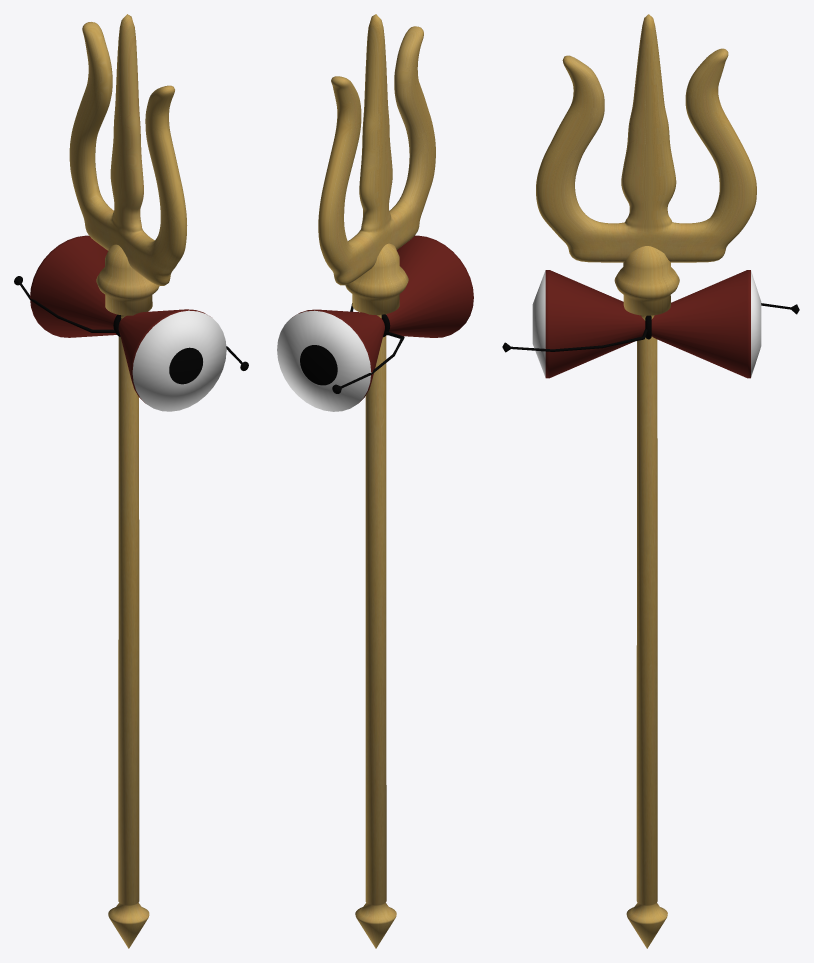
Rendered from trishul.glb.
The picture shows the model from 3 angles, left to right: view 1: azimuth 30°, elevation 25°; view 2: azimuth 150°, elevation 25°; view 3: azimuth 270°, elevation 25°; orthographic projection.
Visible parts, largest first — view 1: upper, handle, damru; view 2: upper, handle, damru; view 3: upper, handle, damru.
Part boxes in pixels (<box>): upper: <box>69,14,187,285</box>; handle: <box>96,244,159,948</box>; damru: <box>30,235,226,411</box>; upper: <box>318,14,435,285</box>; handle: <box>345,243,408,948</box>; damru: <box>277,235,473,411</box>; upper: <box>536,14,756,262</box>; handle: <box>614,246,679,948</box>; damru: <box>532,270,761,378</box>.
Bounding box in the file's own units: 106 × 951 × 274.
8 materials, 2 textured.
